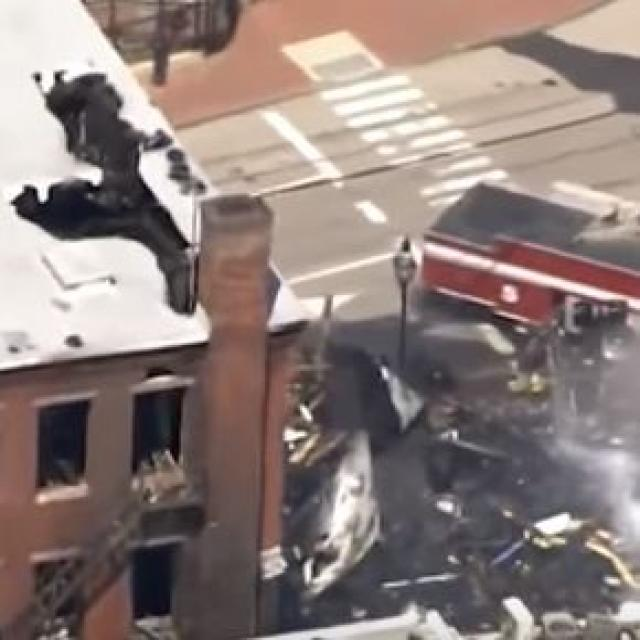collapsed_building: (289, 314, 638, 620), (0, 301, 280, 637)
